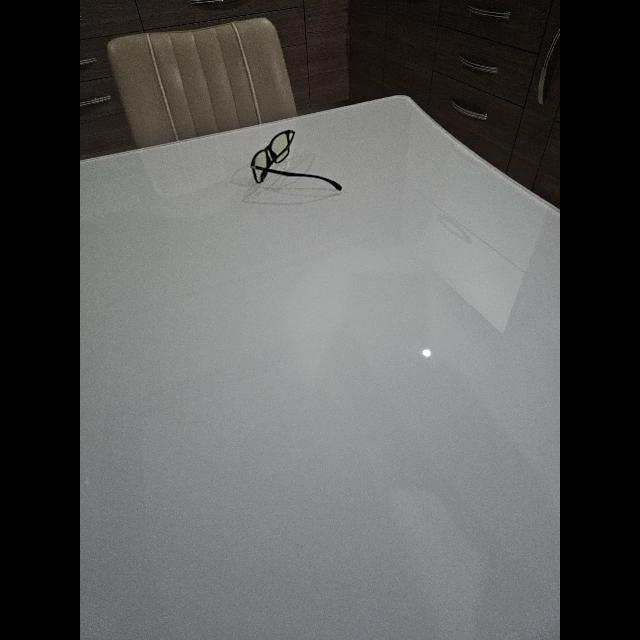glasses: (250, 130, 342, 190)
